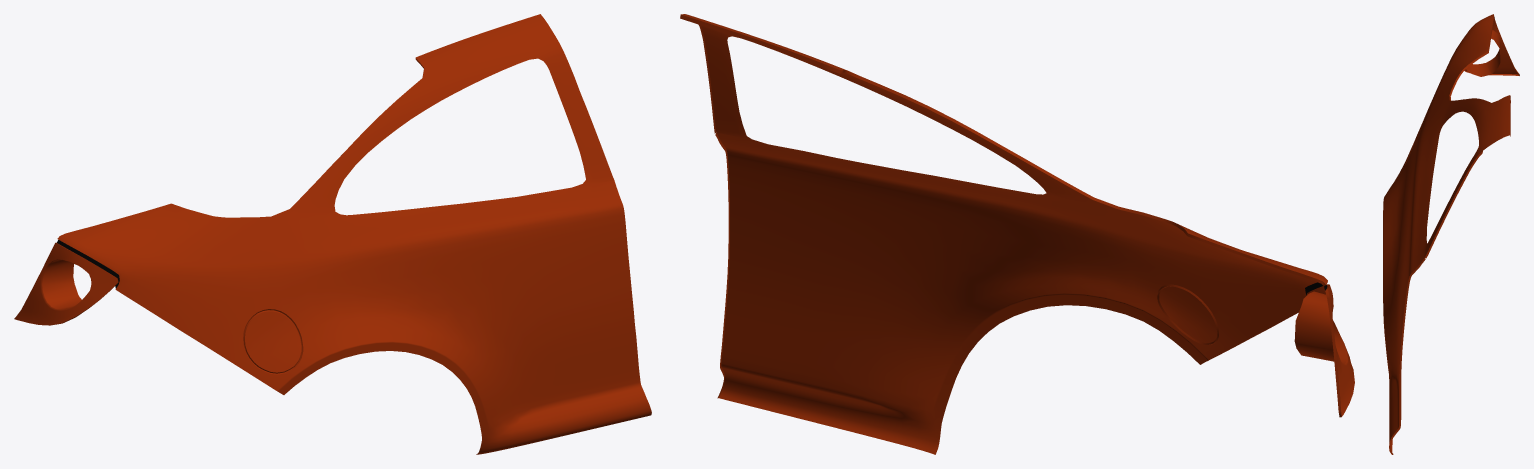
3 renders of one model, left to right at view 1: azimuth 30°, elevation 25°; view 2: azimuth 150°, elevation 25°; view 3: azimuth 270°, elevation 25°, orthographic. The views are drawn at different scales.
Visible parts, largest first — view 1: U236_17_401B_R_1_DaS_U236_17_401B_R, U236_17_401B_R_1_DaS_U236_17_401B_R_E; view 2: U236_17_401B_R_1_DaS_U236_17_401B_R, U236_17_401B_R_1_DaS_U236_17_401B_R_E; view 3: U236_17_401B_R_1_DaS_U236_17_401B_R, U236_17_401B_R_1_DaS_U236_17_401B_R_E.
Part boxes in pixels (bbox=[...]): U236_17_401B_R_1_DaS_U236_17_401B_R: bbox=[14, 14, 651, 454]; U236_17_401B_R_1_DaS_U236_17_401B_R_E: bbox=[17, 58, 424, 374]; U236_17_401B_R_1_DaS_U236_17_401B_R: bbox=[681, 14, 1354, 454]; U236_17_401B_R_1_DaS_U236_17_401B_R_E: bbox=[680, 14, 1346, 417]; U236_17_401B_R_1_DaS_U236_17_401B_R: bbox=[1383, 14, 1518, 451]; U236_17_401B_R_1_DaS_U236_17_401B_R_E: bbox=[1389, 16, 1519, 454].
Size of the model in its own units: 177 by 108 by 44.38.
